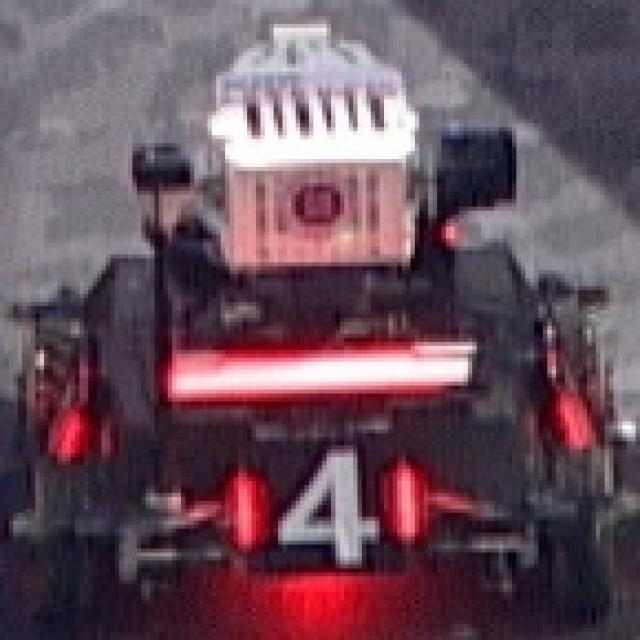R4: (230, 445, 423, 565)
